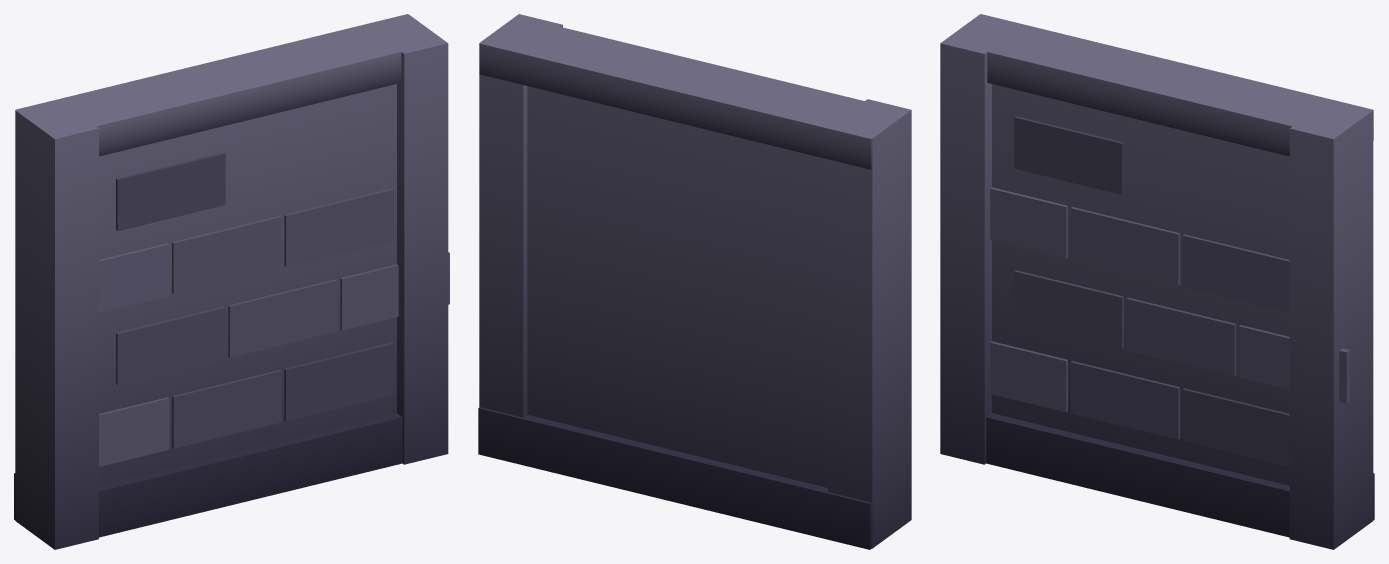
Rendered from dun_wall.glb.
3 renders of one model, left to right at view 1: azimuth 30°, elevation 25°; view 2: azimuth 150°, elevation 25°; view 3: azimuth 330°, elevation 25°, orthographic.
Visible parts, largest first — view 1: dun_wall; view 2: dun_wall; view 3: dun_wall.
Part boxes in pixels (x1,y1,x2,y2): dun_wall: (14, 14, 449, 549); dun_wall: (478, 14, 911, 549); dun_wall: (940, 14, 1374, 549).
Size of the model in its own units: 4.08 by 4 by 0.73.
